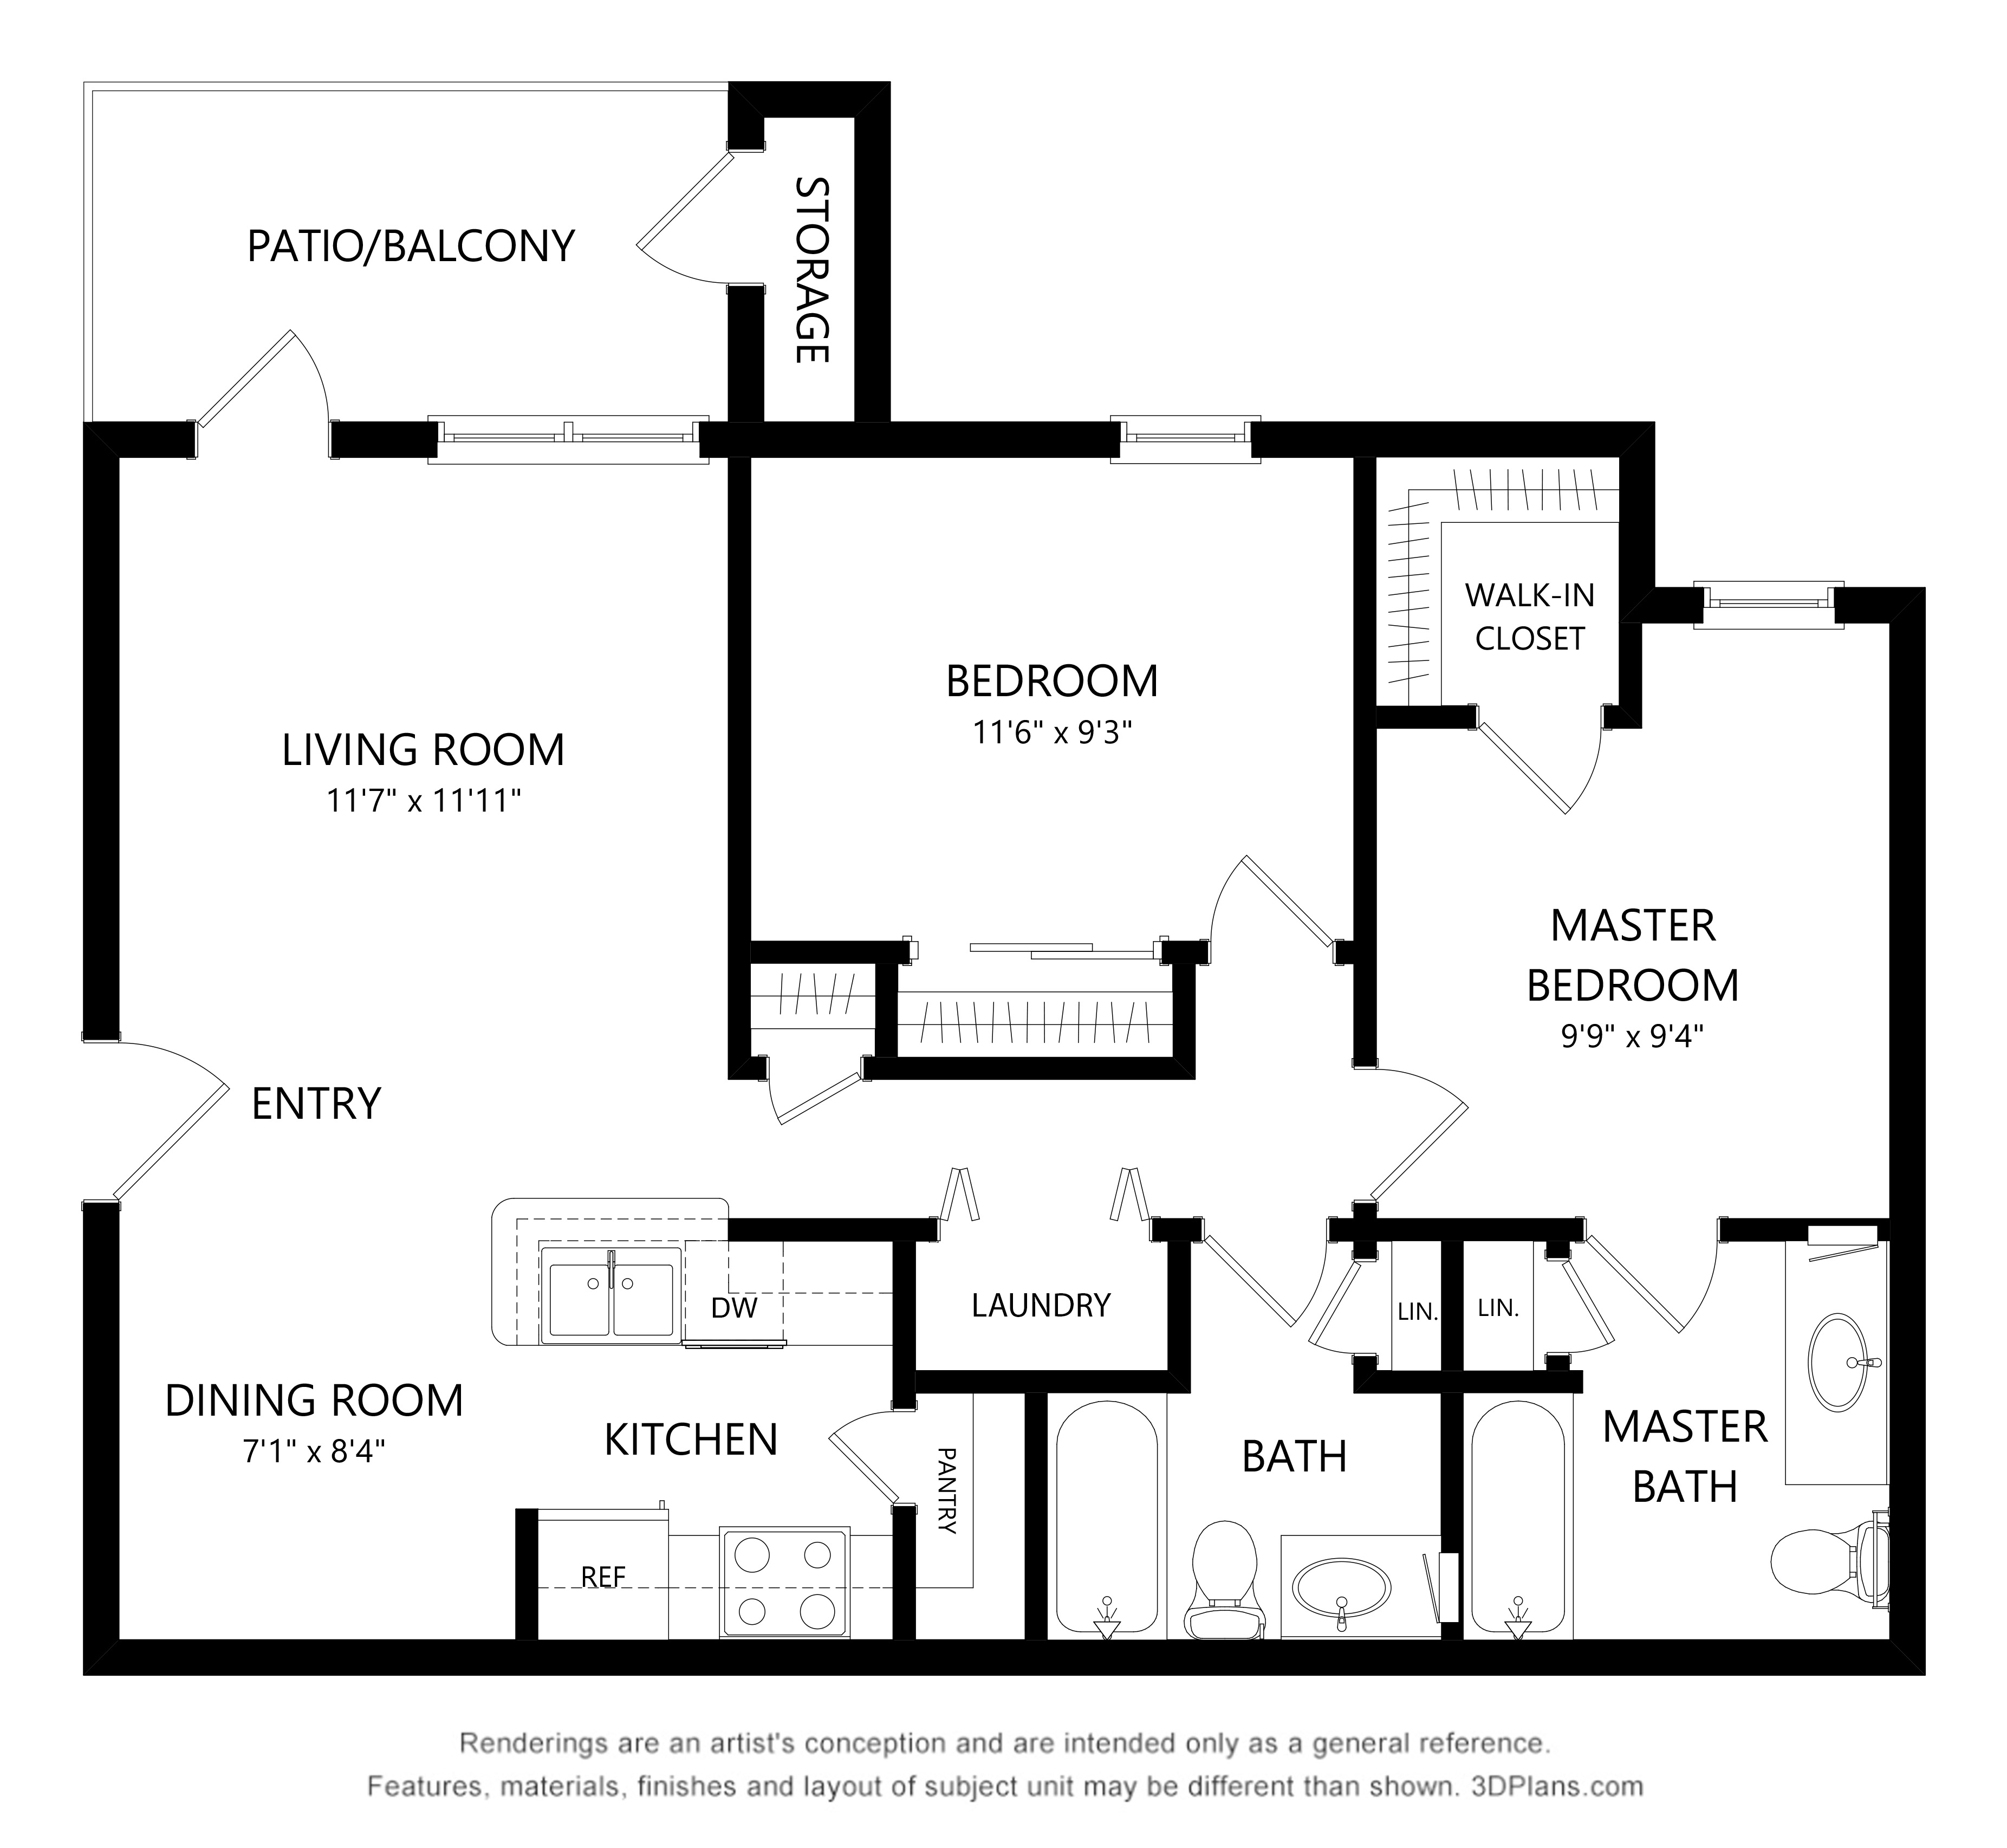wall: (84, 1640, 1941, 1671), (77, 420, 119, 1039), (1886, 589, 1920, 1215), (84, 1203, 115, 1668), (1068, 1640, 1474, 1659), (731, 460, 745, 958), (722, 281, 766, 427), (741, 79, 865, 114), (1033, 1385, 1047, 1668), (858, 96, 871, 420), (327, 421, 435, 456), (1495, 1652, 1918, 1661), (895, 1526, 920, 1673), (1358, 696, 1463, 729), (726, 963, 753, 1080), (752, 434, 1119, 442), (93, 421, 184, 456), (1617, 587, 1712, 619), (734, 1219, 921, 1234), (1624, 589, 1647, 715), (1841, 584, 1914, 621), (895, 1243, 911, 1395), (699, 425, 762, 456), (1362, 467, 1369, 731), (1400, 428, 1659, 434), (519, 1512, 528, 1663), (1273, 428, 1379, 441), (1629, 442, 1636, 605), (1607, 705, 1649, 729), (1444, 1229, 1451, 1374), (895, 1063, 1177, 1065), (1481, 1222, 1586, 1226), (1365, 757, 1367, 944), (1448, 1374, 1449, 1551), (1178, 944, 1180, 1073), (776, 949, 885, 951), (885, 956, 886, 1053)
